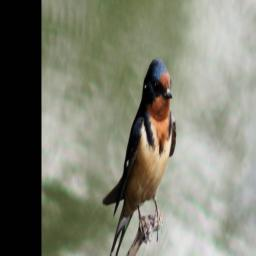Swallow: (105, 57, 178, 256)
